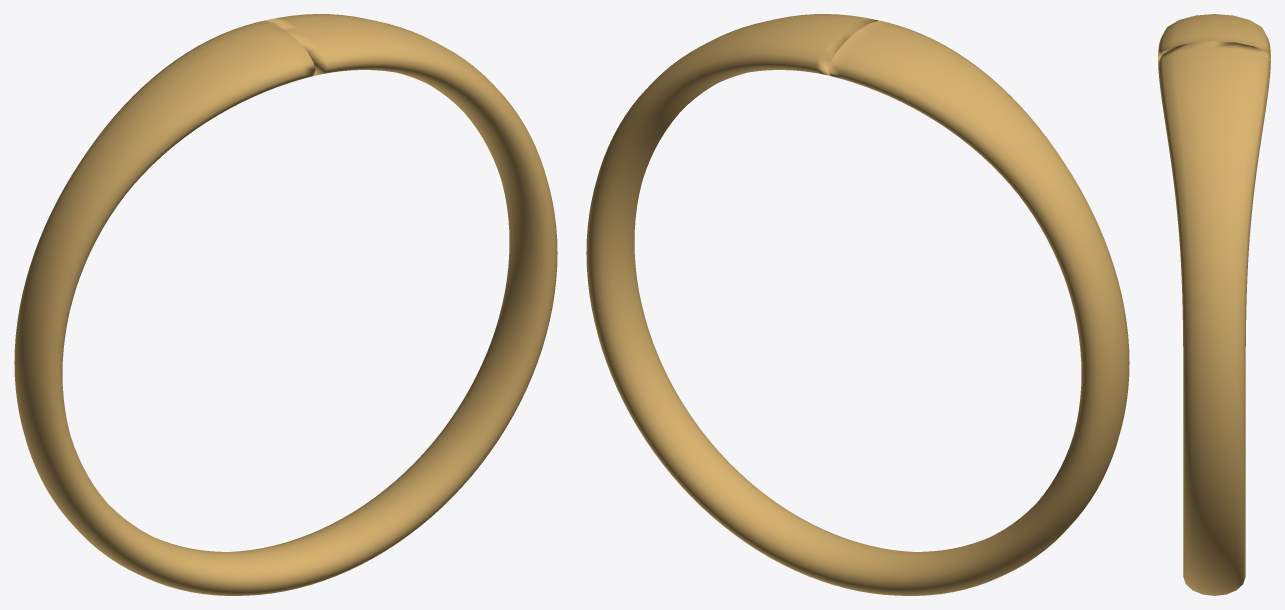
Rendered from bands-reverse-tapered.glb.
3 renders of one model, left to right at view 1: azimuth 30°, elevation 25°; view 2: azimuth 150°, elevation 25°; view 3: azimuth 270°, elevation 25°, orthographic. The views are drawn at different scales.
Visible parts, largest first — view 1: Band; view 2: Band; view 3: Band.
Boxes of the visible parts, bbox=[...] form: Band: bbox=[14, 14, 557, 595]; Band: bbox=[586, 14, 1129, 595]; Band: bbox=[1158, 14, 1270, 595].
Size of the model in its own units: 19.6 by 19.6 by 3.8.
